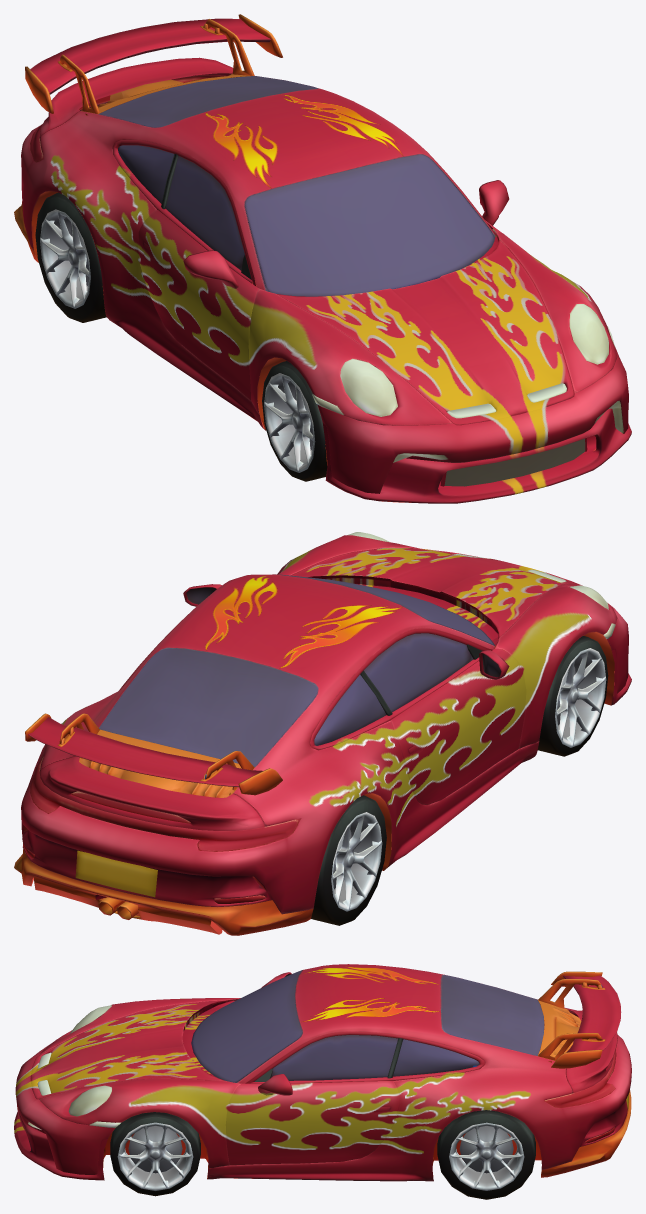
The model's file is Porche_992.fbx.
3 views of the same model, one above another, from view 1: azimuth 30°, elevation 25°; view 2: azimuth 150°, elevation 25°; view 3: azimuth 270°, elevation 25° (orthographic). The views are drawn at different scales.
Visible parts, largest first — view 1: Porche_992_base, Porche_992_wheel_B.R, Porche_992_wheel_F.R; view 2: Porche_992_base, Porche_992_wheel_B.R, Porche_992_wheel_F.R; view 3: Porche_992_base, Porche_992_wheel_B.L, Porche_992_wheel_F.L.
Boxes of the visible parts, box(x1,y1,x2,y2) form: Porche_992_base: box(14, 14, 631, 503); Porche_992_wheel_B.R: box(35, 192, 106, 322); Porche_992_wheel_F.R: box(262, 361, 327, 481); Porche_992_base: box(14, 532, 631, 935); Porche_992_wheel_B.R: box(311, 795, 386, 925); Porche_992_wheel_F.R: box(537, 636, 608, 756); Porche_992_base: box(14, 964, 631, 1181); Porche_992_wheel_B.L: box(437, 1110, 535, 1199); Porche_992_wheel_F.L: box(110, 1112, 200, 1196).
Size of the model in its own units: 2 by 1.29 by 4.52.
